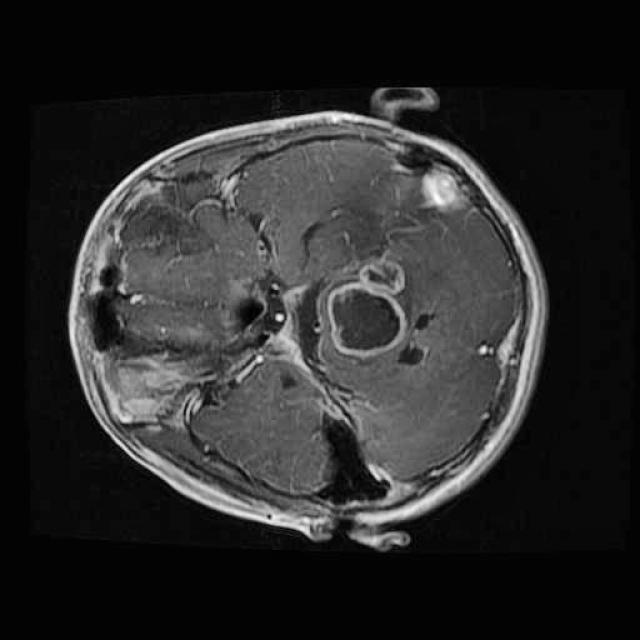Tumor: (318, 242, 414, 378)
